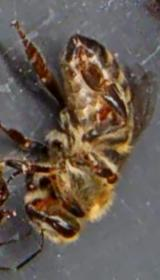varroa_mite: (88, 96, 121, 124)
